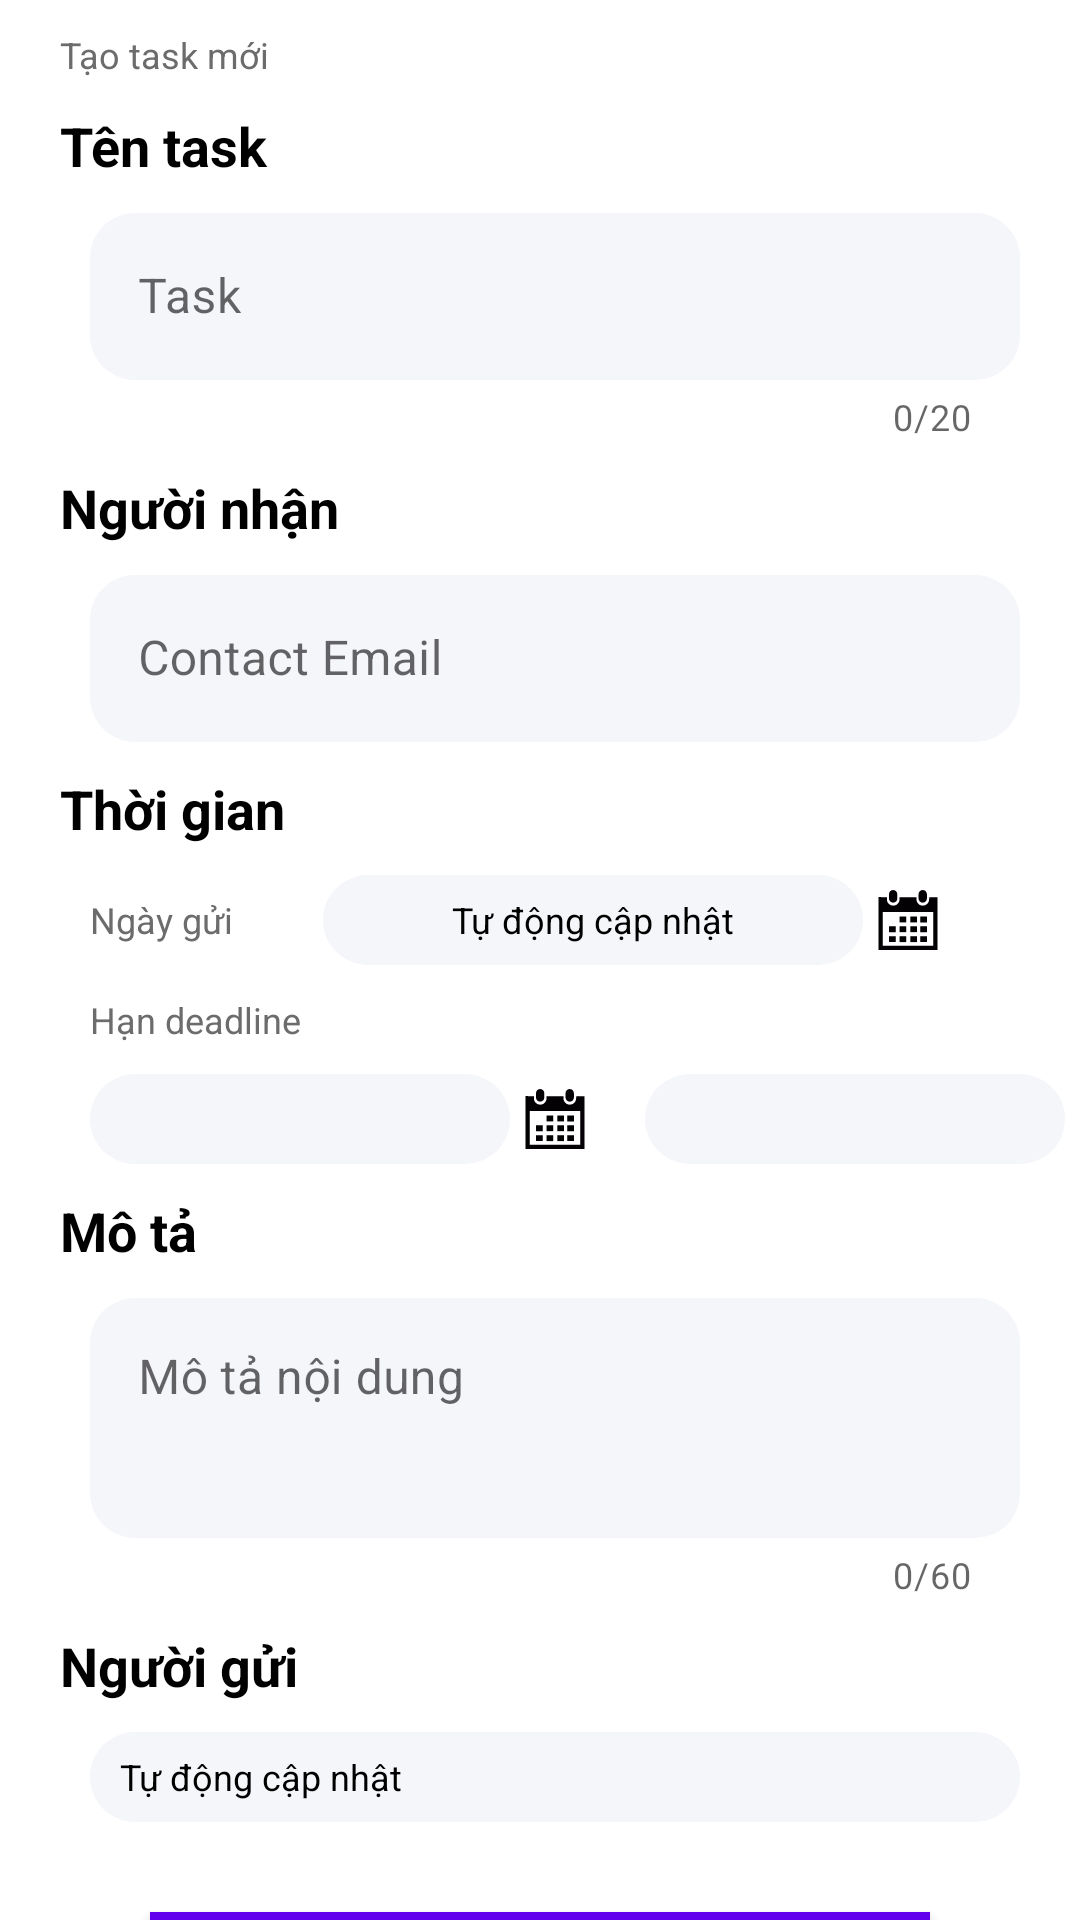

Where icons sit on this 1080×1920 app screen, as (left=x1, top=y1, right=x2, bottom=y2):
calendar: (left=878, top=890, right=938, bottom=950), (left=525, top=1089, right=585, bottom=1149)
